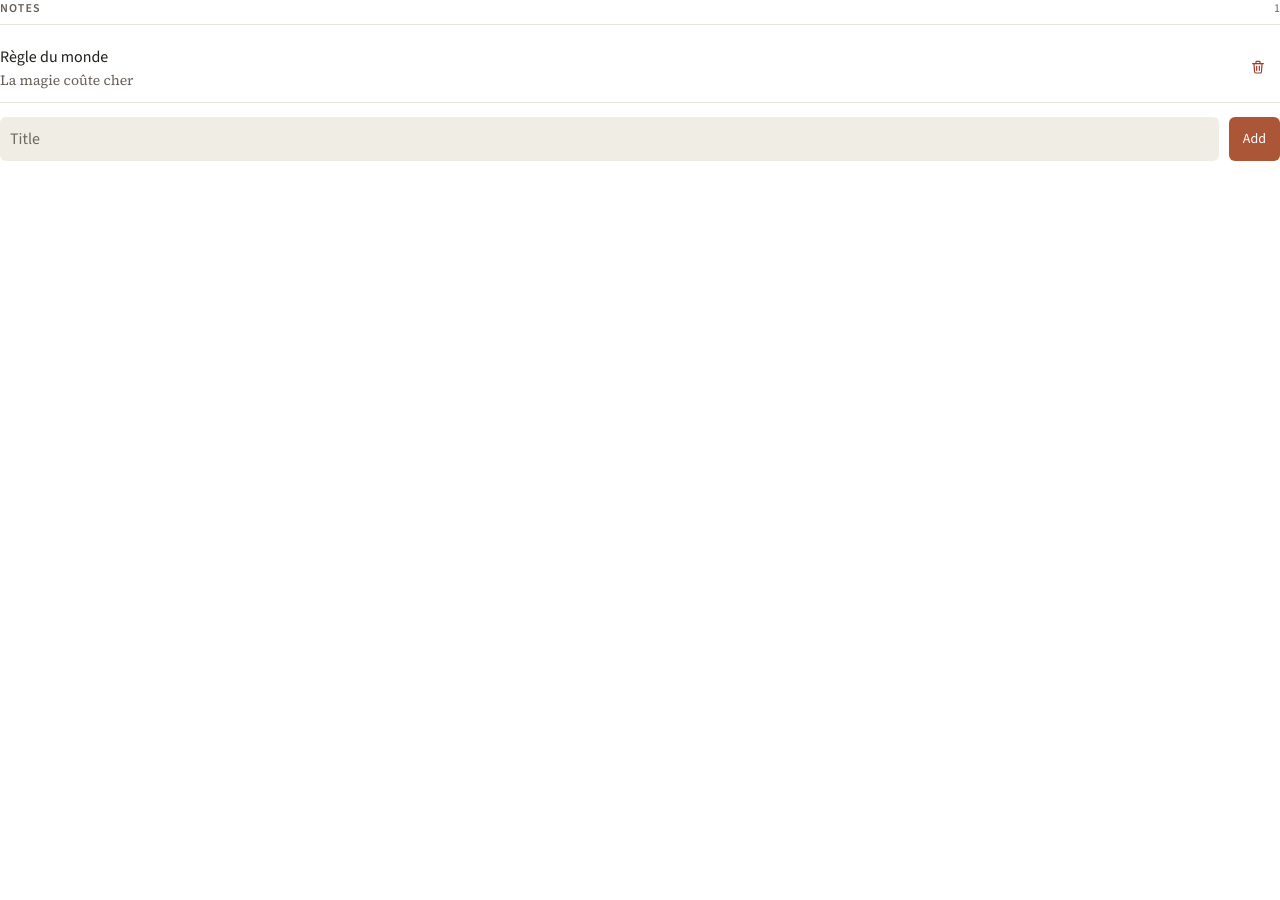
Scenario: NotesPanel › does not delete the note when the confirmation dialog is cancelled
Expected: the text "Règle du monde" is shown, top-left (0, 46), bottom-right (108, 67)
Click the button with test id "note-delete-button". click: {"x": 1258, "y": 67}
box: top-left (1236, 45), bottom-right (1279, 89)
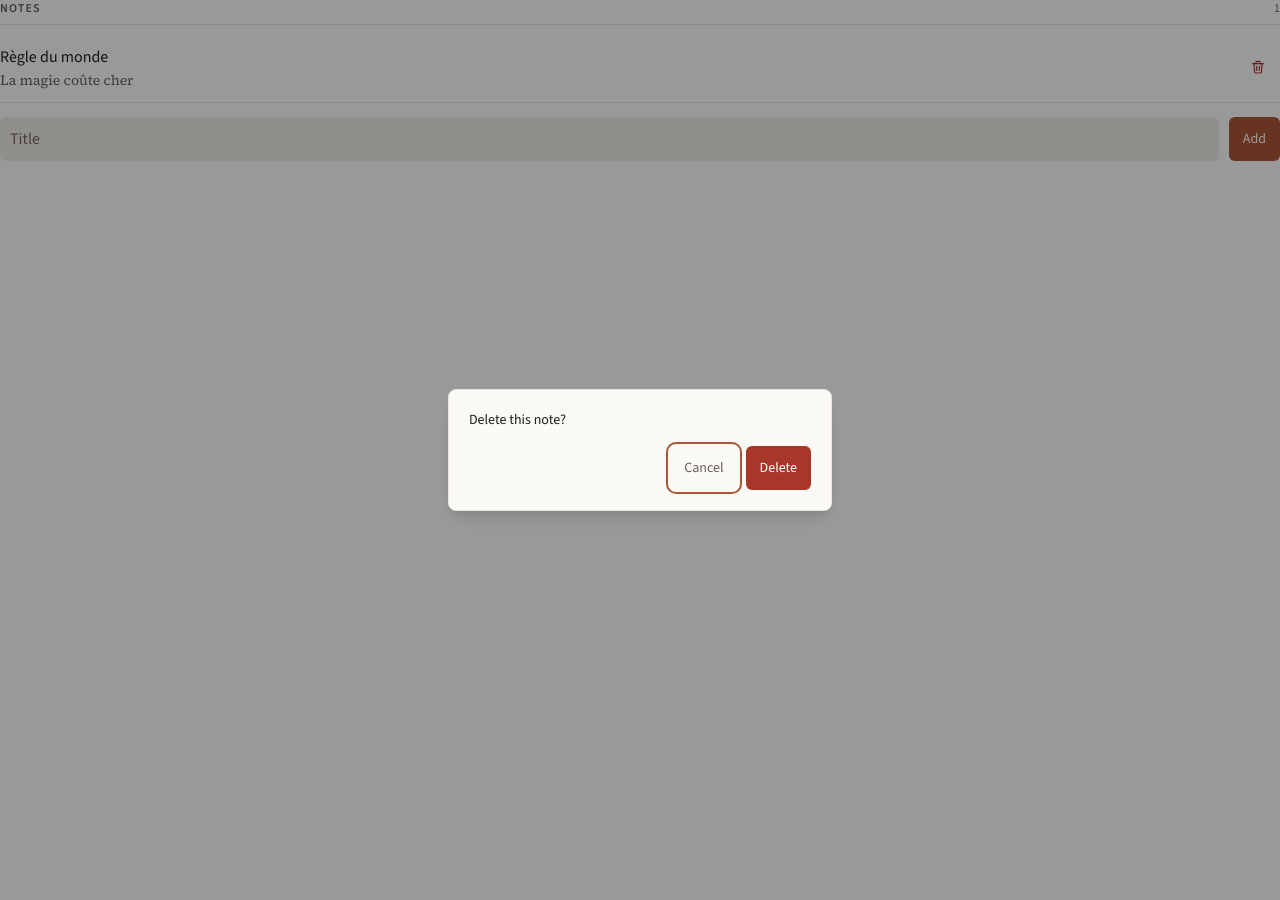
Click the button with test id "confirm-dialog-cancel". click: {"x": 704, "y": 468}
box: top-left (670, 446), bottom-right (738, 490)
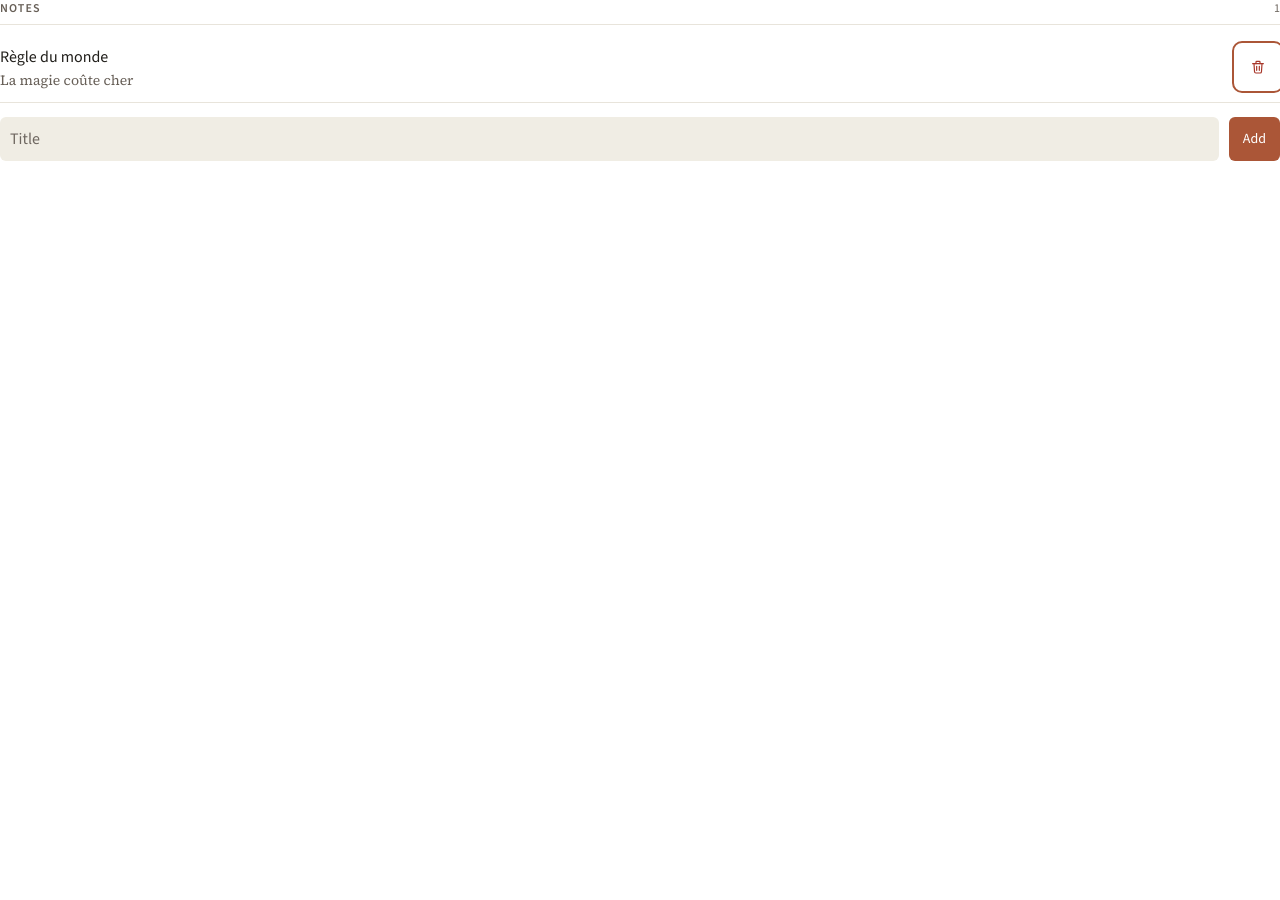
Expected: the link with test id "note-item" is shown, top-left (0, 46), bottom-right (134, 90)
Result: the dialog with test id "confirm-dialog" is gone
